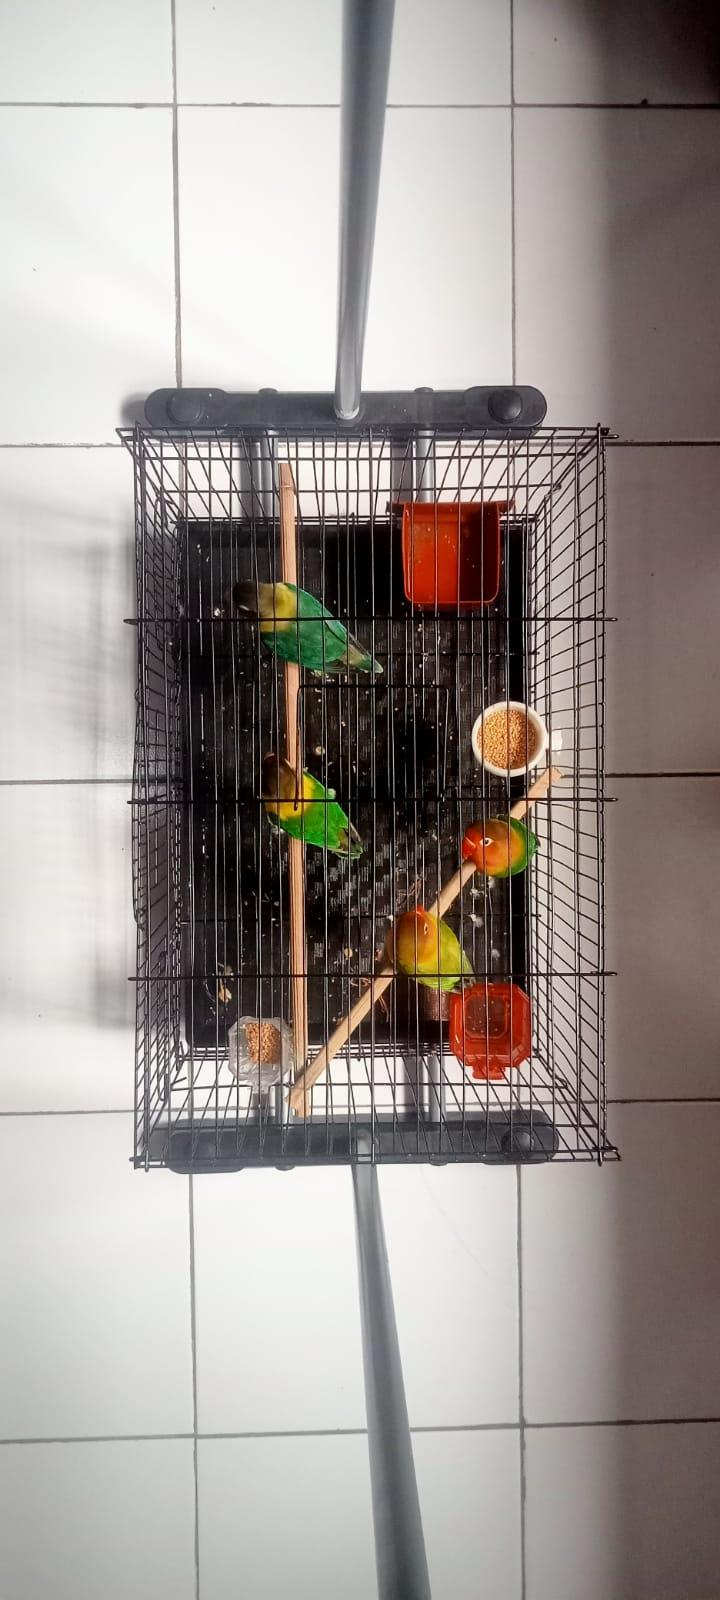LoveBird: (224, 579, 384, 676), (259, 750, 363, 859), (383, 906, 477, 994), (461, 814, 539, 879)
